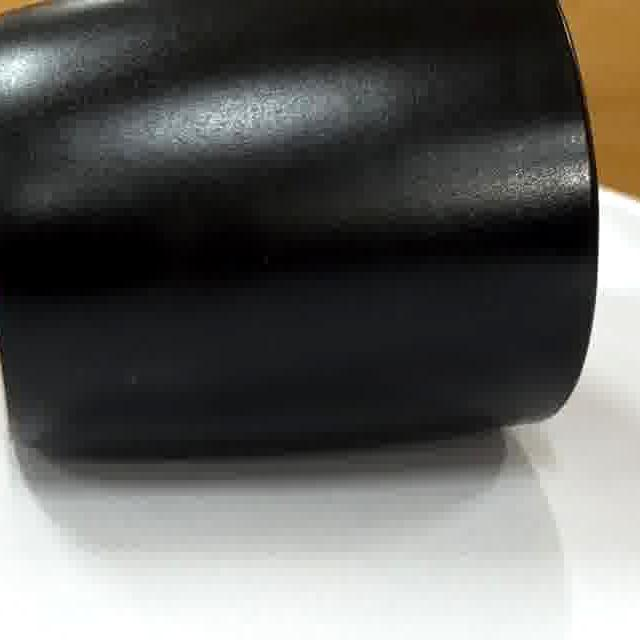cup: (0, 0, 598, 464)
